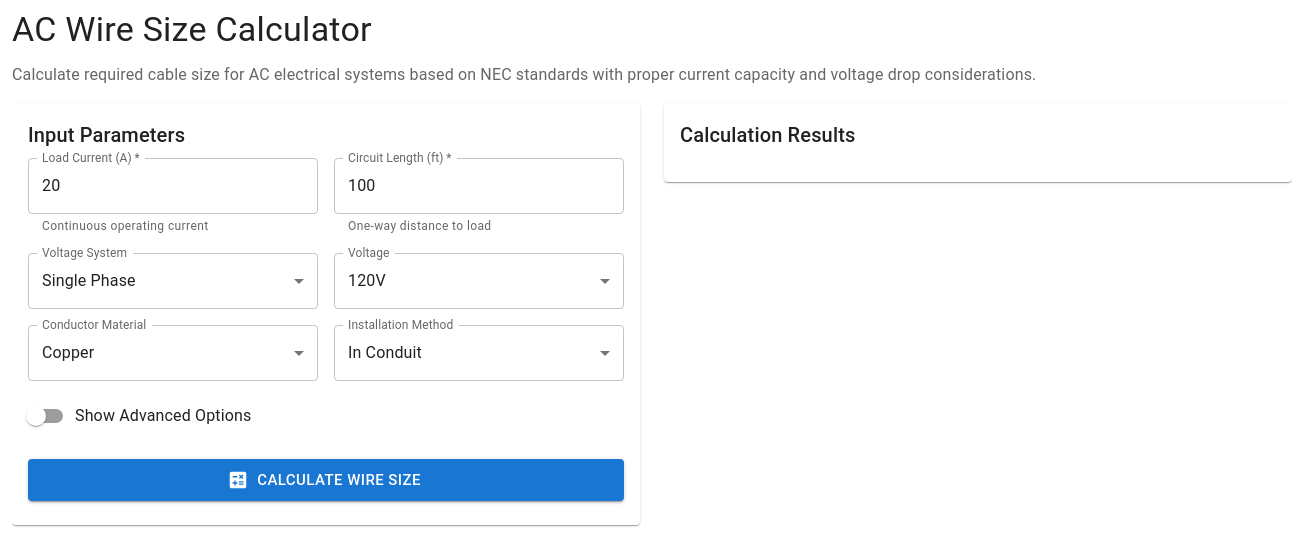
it: Input Field Fix Verification › Basic Input Field Functionality › should prevent leading zeros in inputs
This screenshot has width=1292, height=544.
// Try to enter value with leading zero
Step 1. Replace the text in the field showing "20" with "025" → [173, 186], box [28,158,318,214]
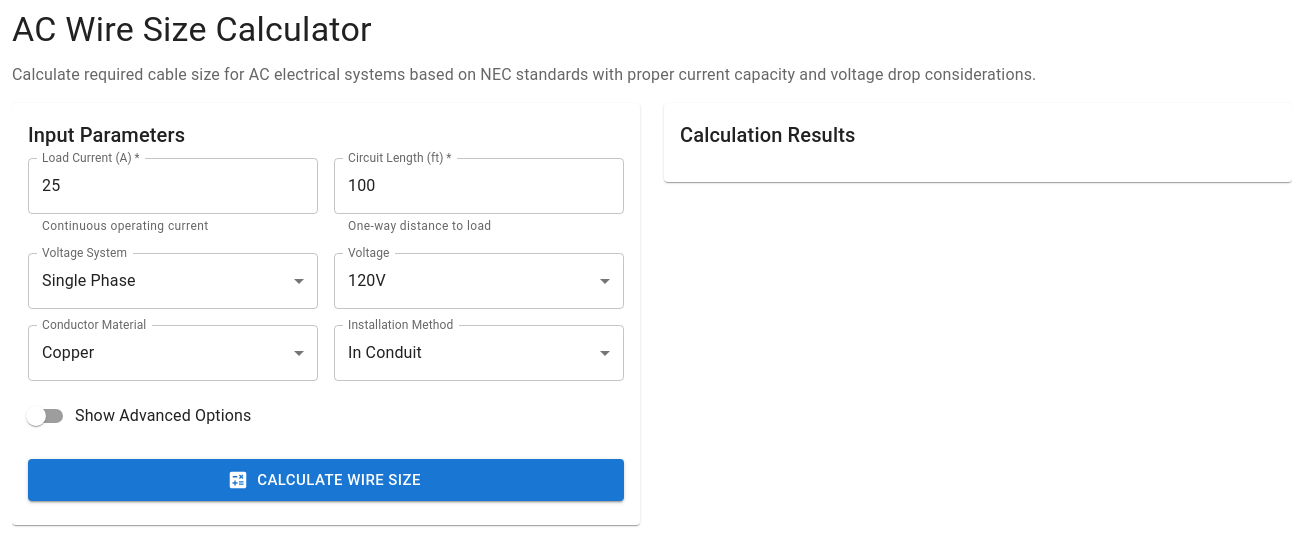
Expected: the field showing "20" holds "25", [28,158,318,214]
